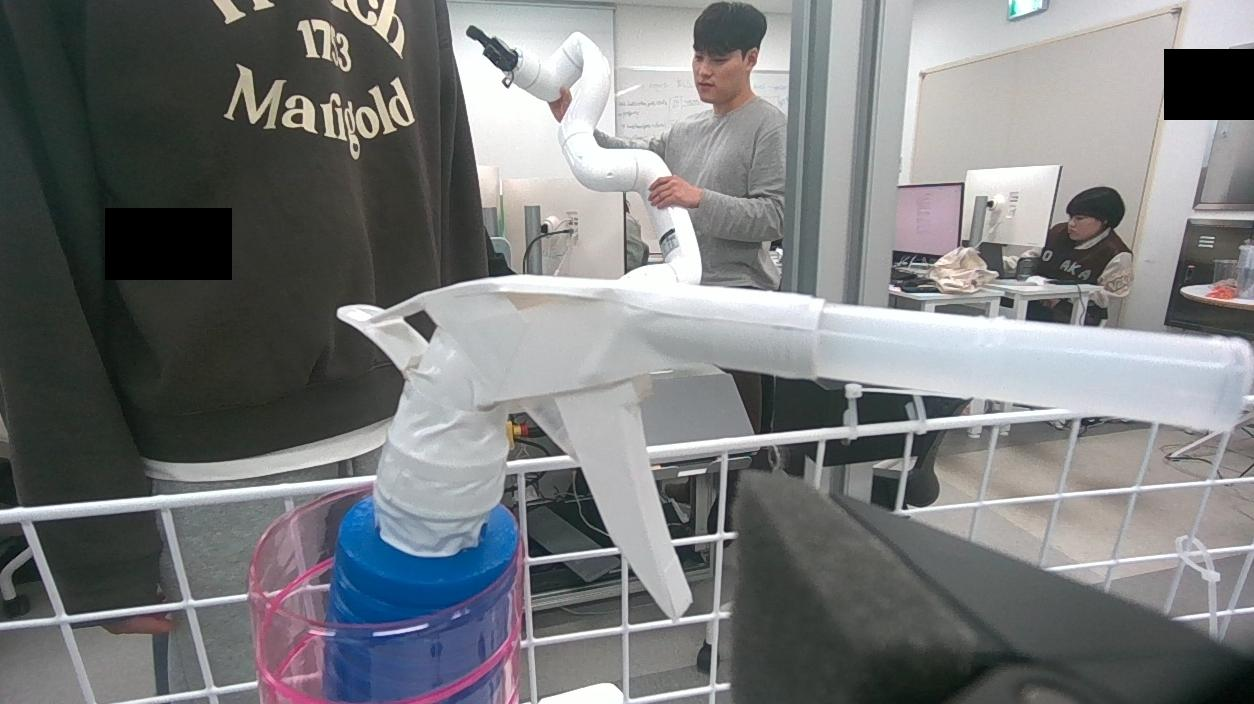Nozzle: (337, 269, 843, 678)
